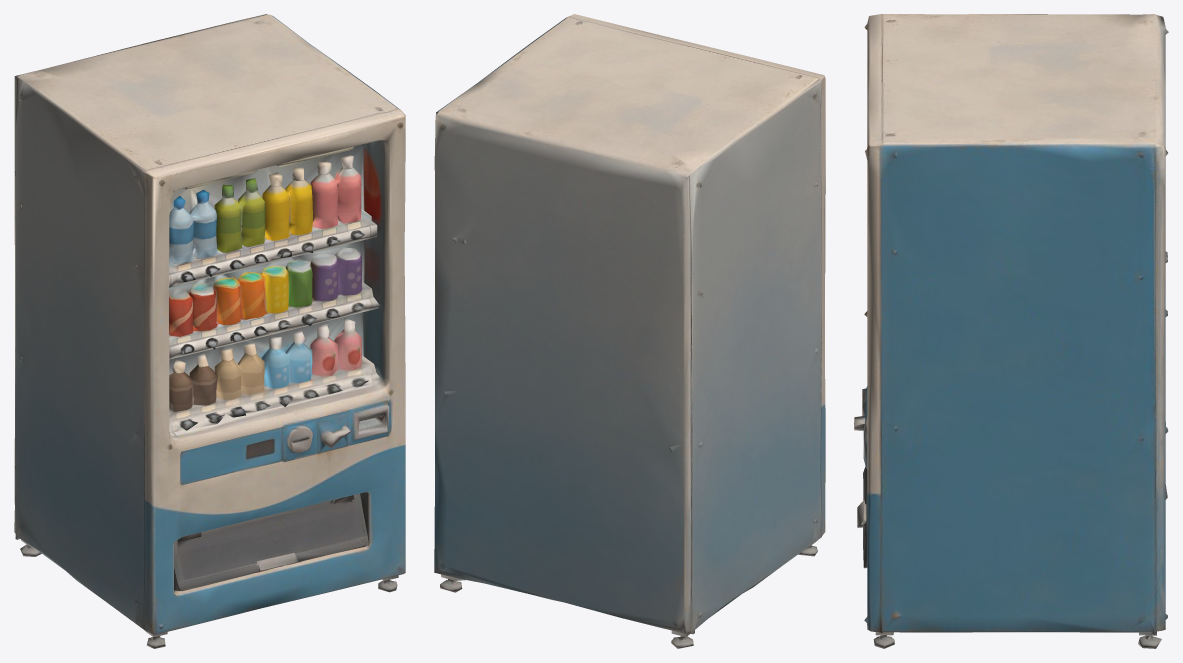
Rendered from vending_machine.glb.
3 views of the same model, side by side, from view 1: azimuth 30°, elevation 25°; view 2: azimuth 150°, elevation 25°; view 3: azimuth 270°, elevation 25° (orthographic). The views are drawn at different scales.
Parts seen in each view (by area): view 1: vending_machine; view 2: vending_machine; view 3: vending_machine.
Boxes of the visible parts, x1,y1,x2,y2 form: vending_machine: (14, 14, 405, 648); vending_machine: (434, 14, 825, 648); vending_machine: (854, 14, 1168, 648).
Size of the model in its own units: 1.03 by 1.8 by 1.01.
Materials: 1 (1 with a texture image).
